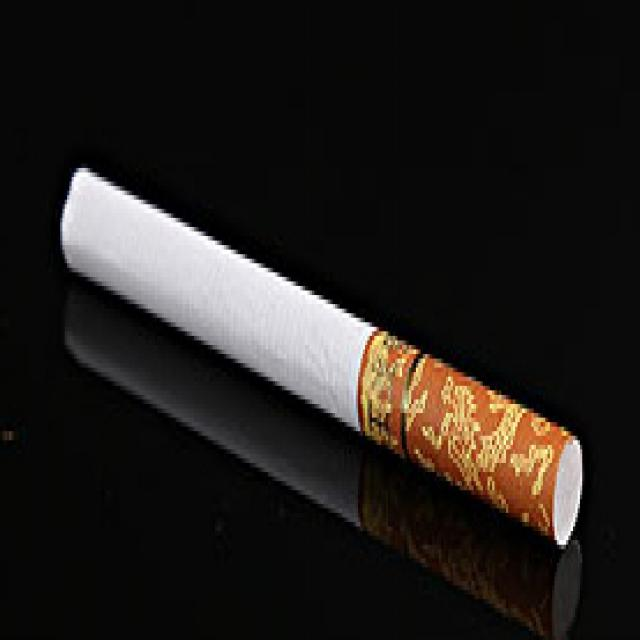smoking: (61, 168, 584, 552)
